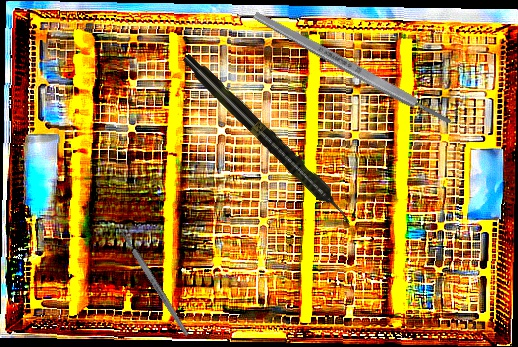Handpiece: (178, 50, 358, 229)
Scalpel Handle: (251, 8, 454, 129), (118, 229, 191, 338)
